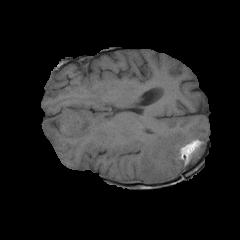glioma: (42, 108, 204, 183)
